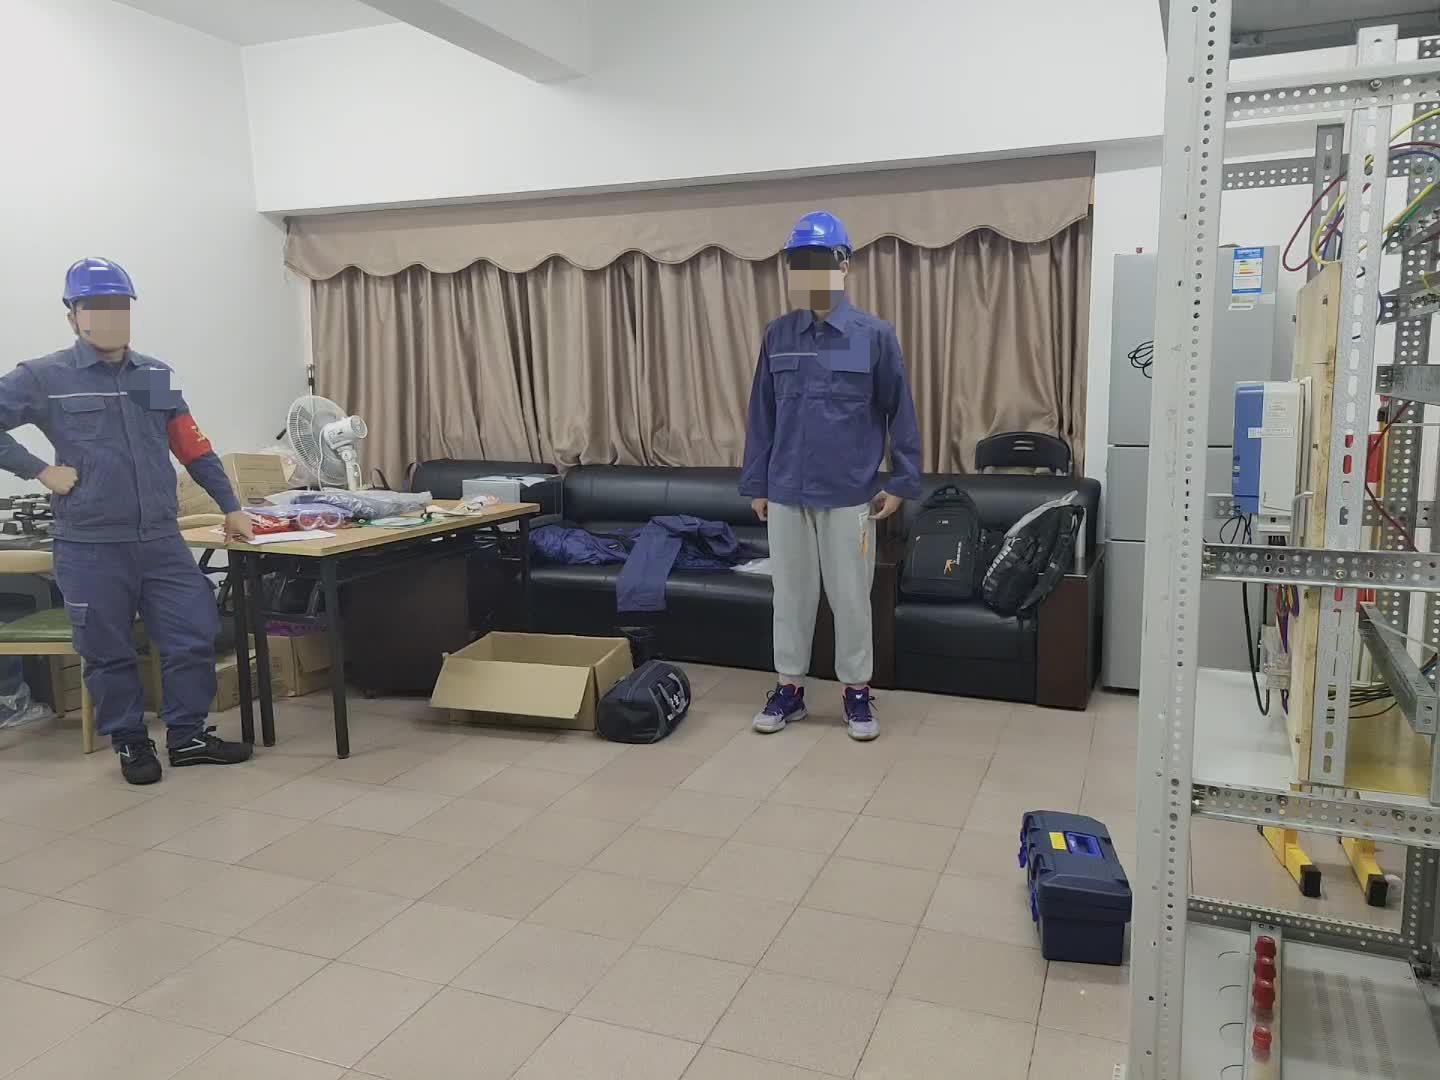halt: (62, 258, 145, 354), (782, 212, 859, 307)
inear: (831, 252, 858, 296)
